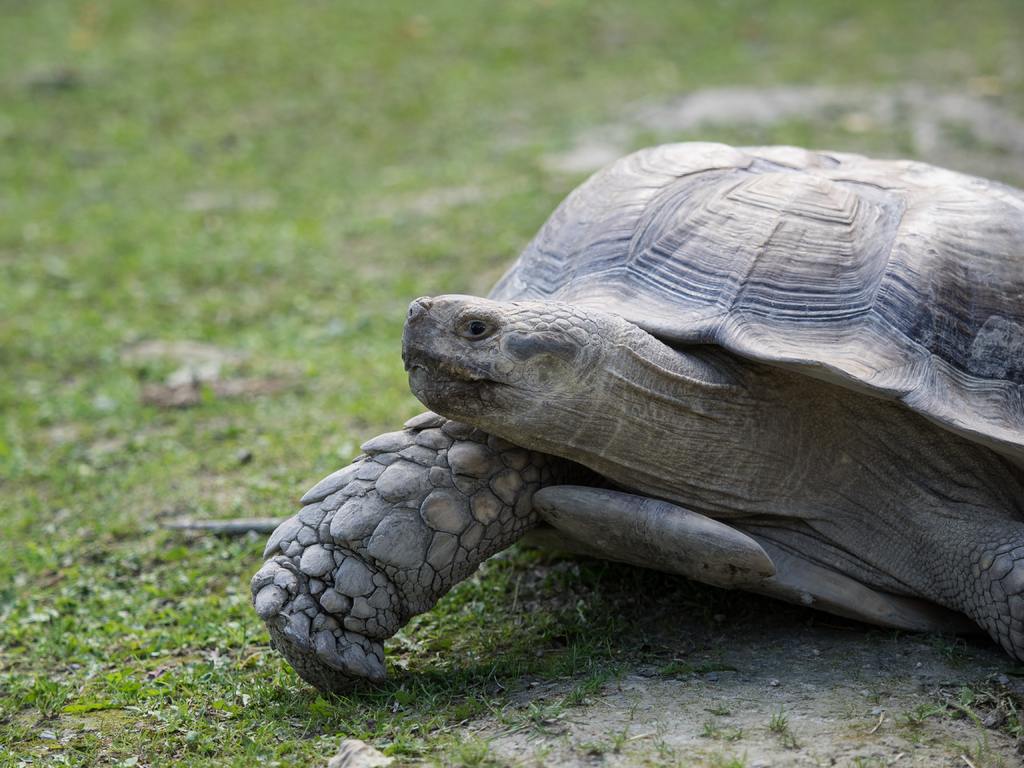Sea turtles: (244, 137, 1023, 695)
